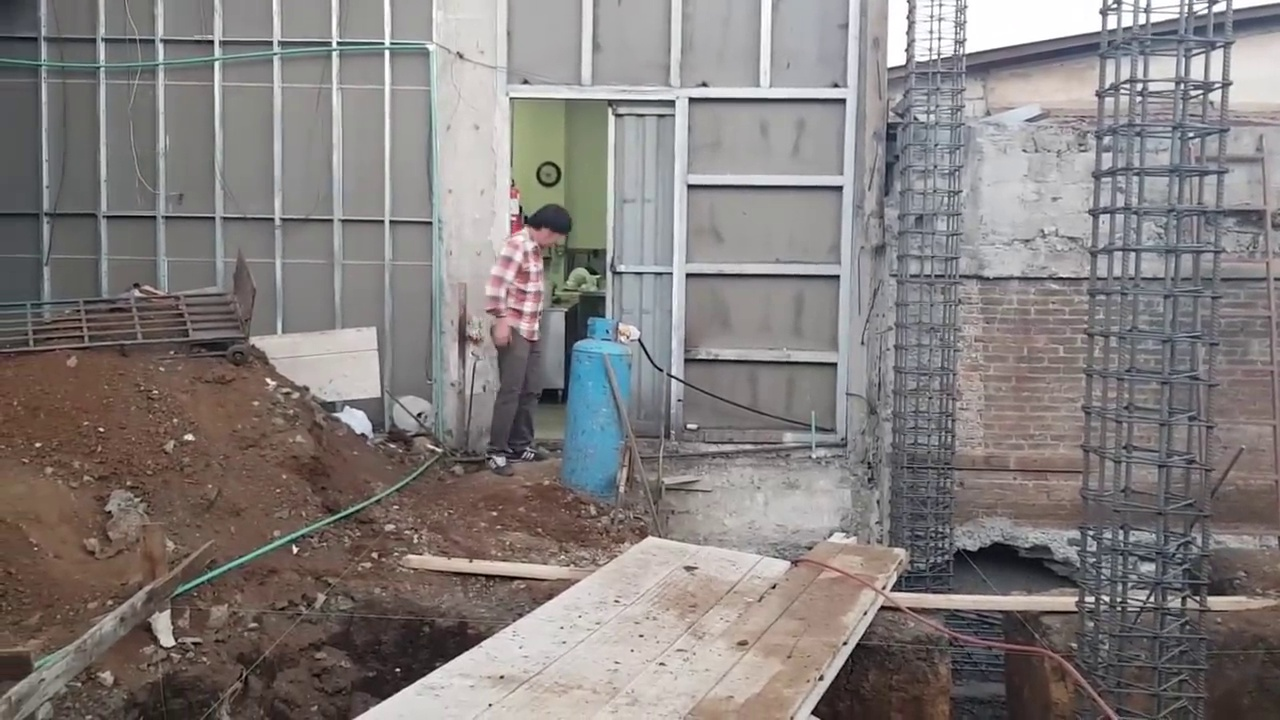helmet-off: (523, 203, 578, 250)
person: (481, 188, 573, 463)
